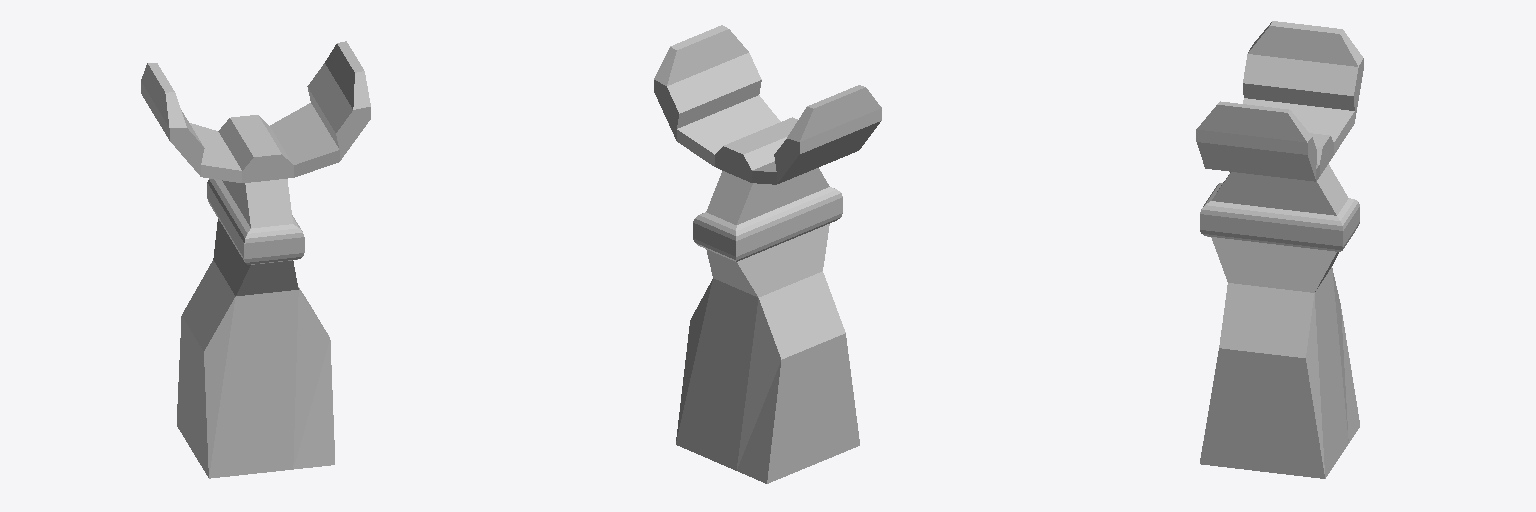
File: prop_trolley_claw.obj
3 views of the same model, side by side, from view 1: azimuth 30°, elevation 25°; view 2: azimuth 150°, elevation 25°; view 3: azimuth 270°, elevation 25° (orthographic).
Visible parts, largest first — view 1: claw_01; view 2: claw_01; view 3: claw_01.
Boxes of the visible parts, x1=… form: claw_01: x1=141, y1=41, x2=370, y2=478; claw_01: x1=654, y1=25, x2=881, y2=483; claw_01: x1=1196, y1=21, x2=1363, y2=478.
Size of the model in its own units: 35.81 by 64.59 by 25.86.